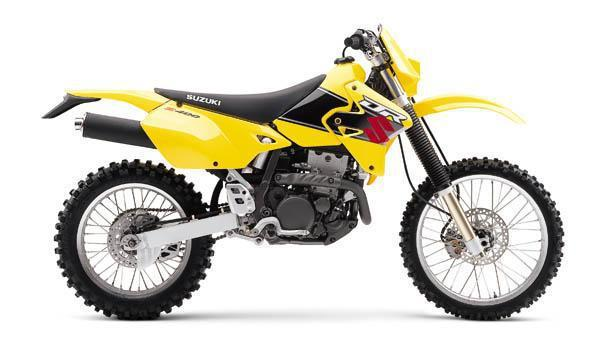motorcycle: (24, 12, 585, 335)
